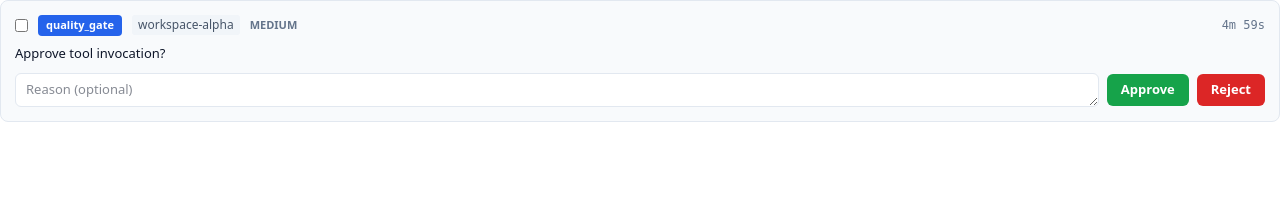
Scenario: GateQueue › deselecting via checkbox hides the batch controls when the last gate is deselected
The width and height of the screenshot is (1280, 214).
Click the checkbox.
click(22, 25)  # box [15,19,28,32]
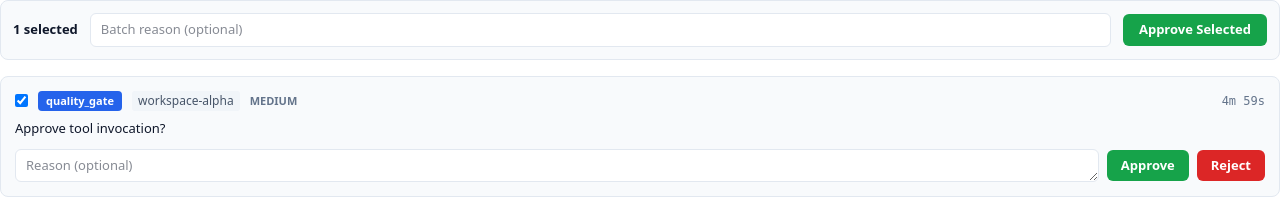
Result: the button "Approve Selected" is shown at [1123,14,1267,46]
Click the checkbox.
click(22, 101)  # box [15,94,28,107]
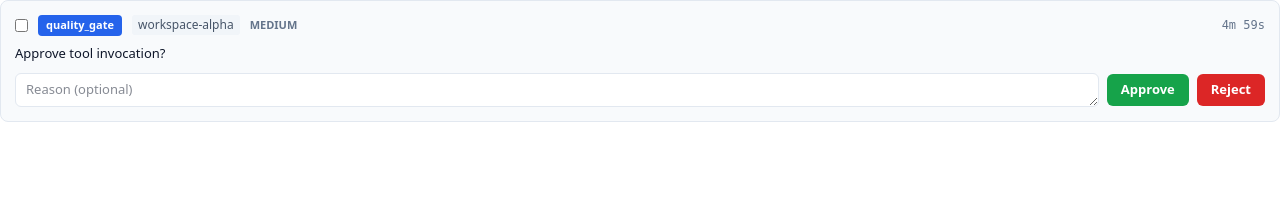
Result: the button "Approve Selected" is gone
